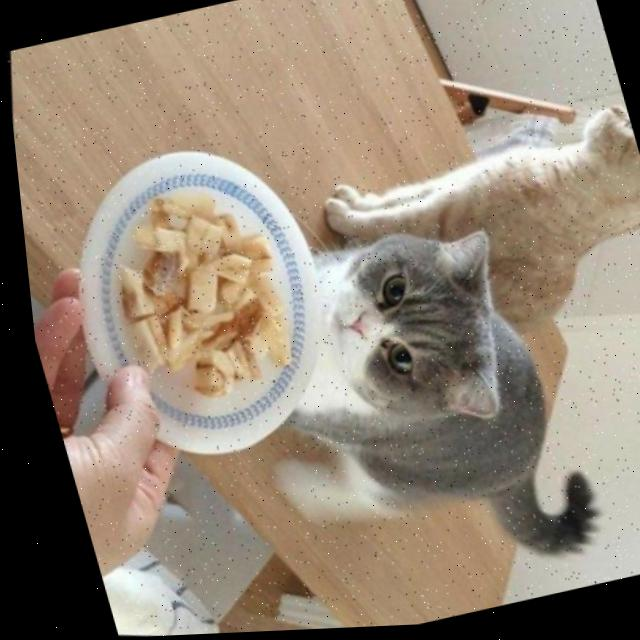Cats: (158, 156, 640, 635), (240, 13, 640, 447)
